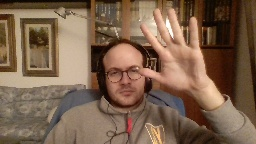Mano_aperta: (135, 3, 207, 94)
